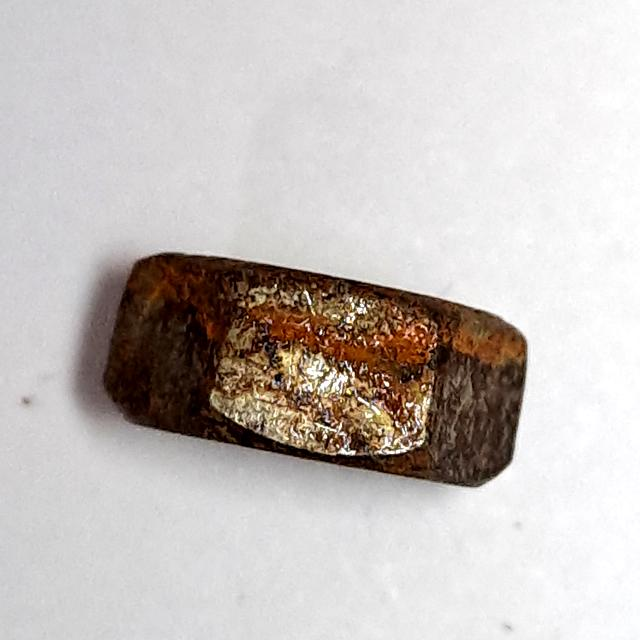Side_Rust: (92, 232, 538, 497)
